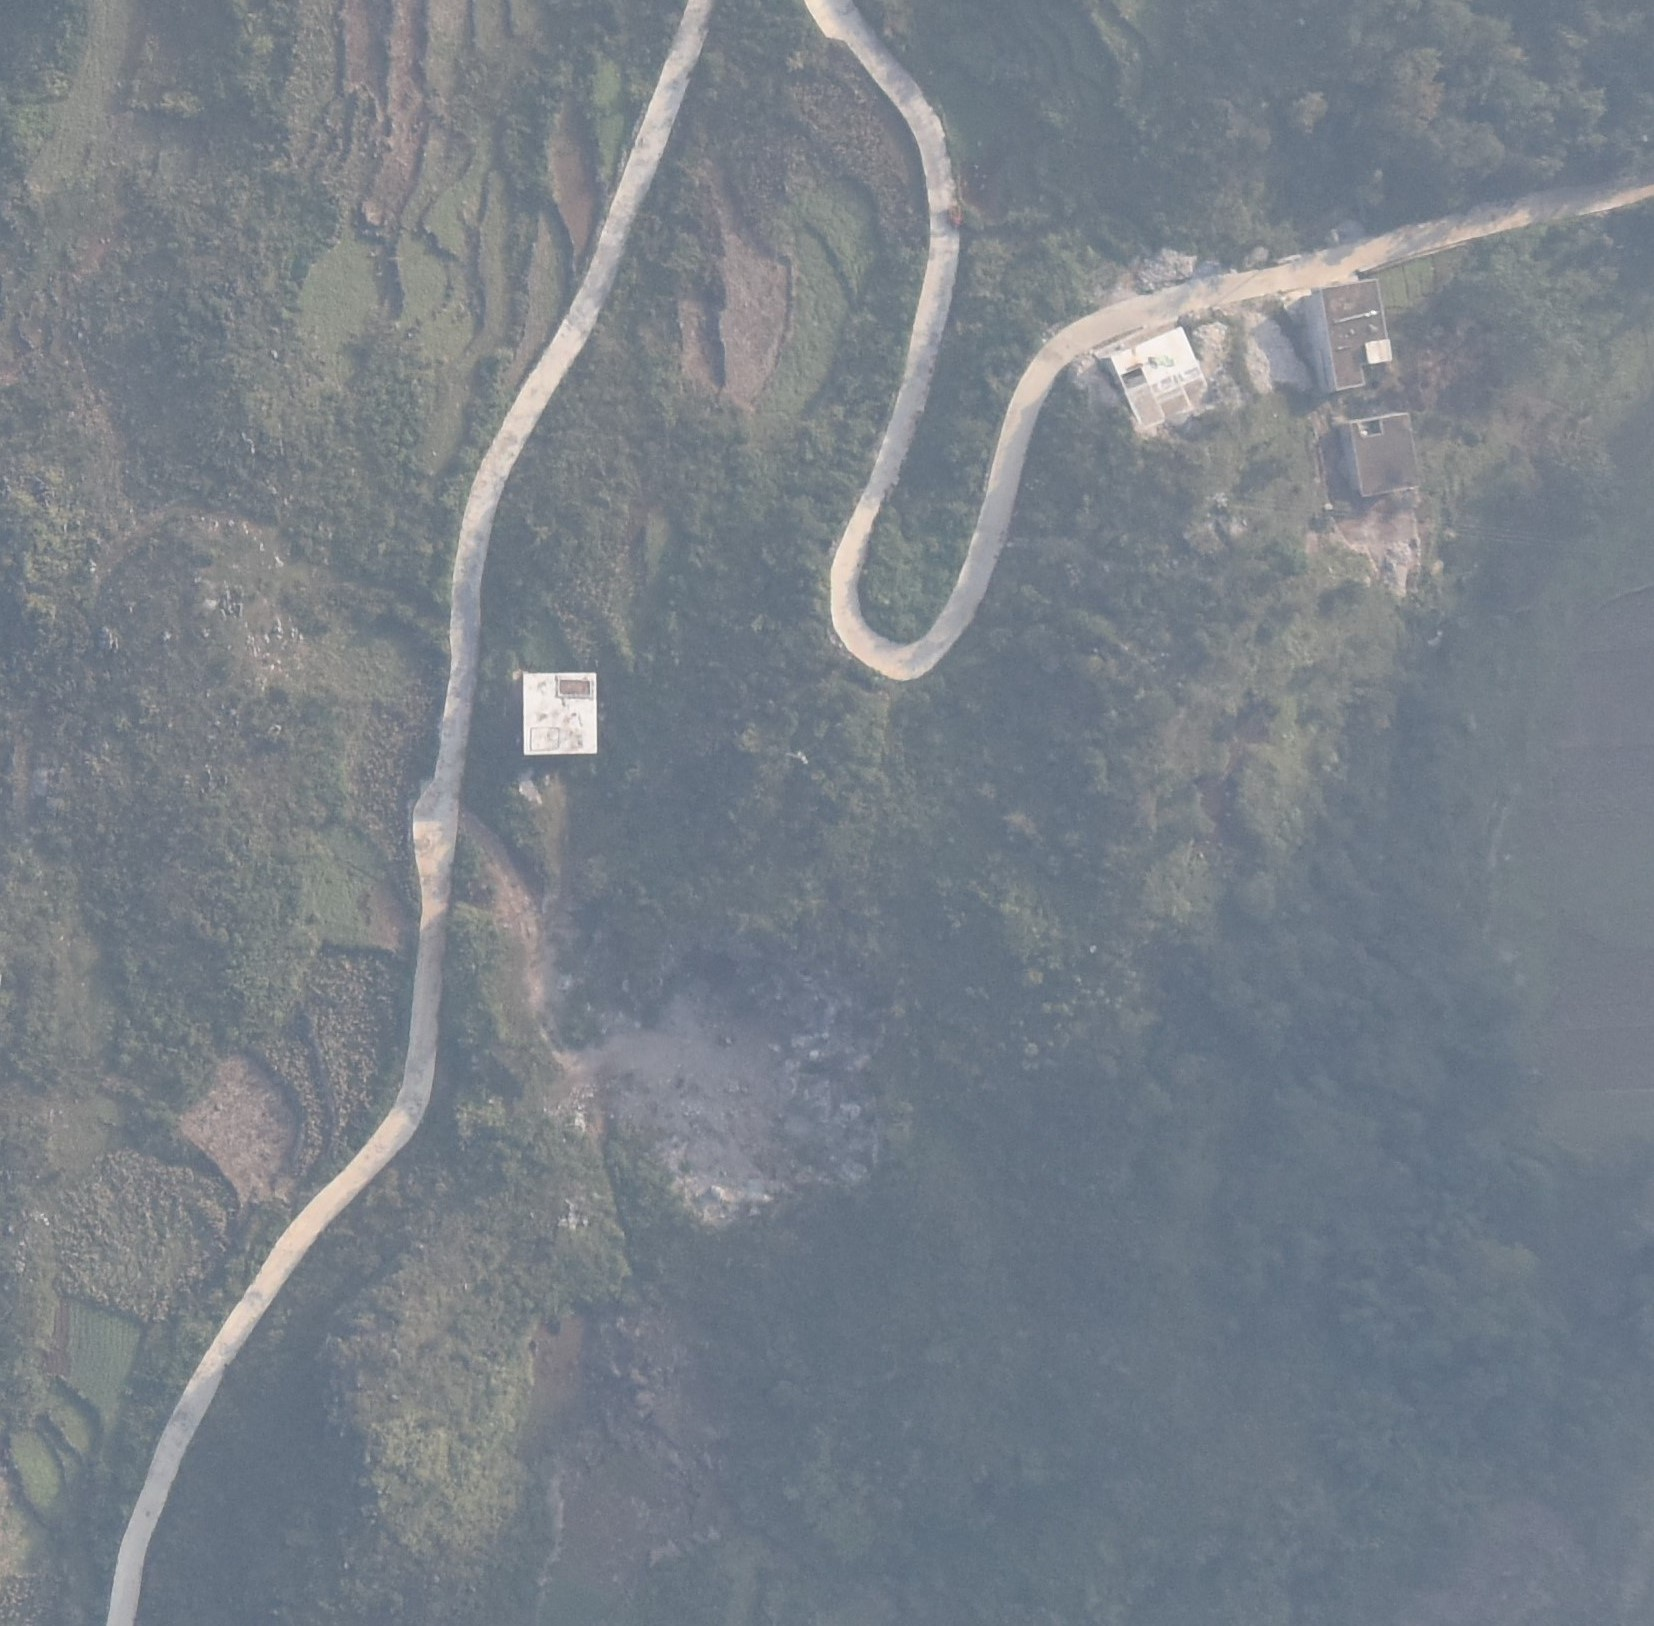building: (1096, 325, 1224, 436), (1300, 274, 1399, 405), (508, 648, 606, 768), (1331, 406, 1431, 509)
quarry: (572, 948, 887, 1231)
